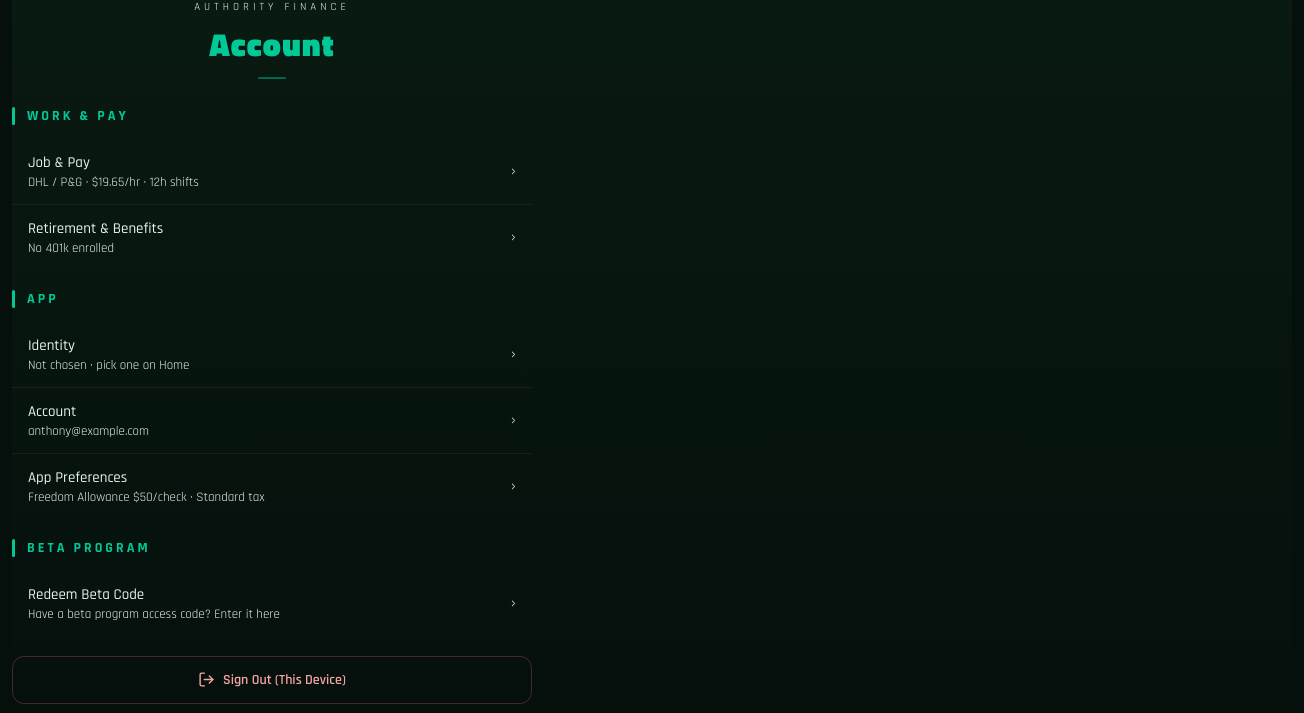
Test: ProfilePanel — Employment card (T5 DHL Team editor) is site-aware › Warehouse config shows Mon-Thu/Wed-Sat pills, not Team A/B
The width and height of the screenshot is (1304, 713).
Click the text "Job & Pay": click(59, 162) [28,153,90,172]
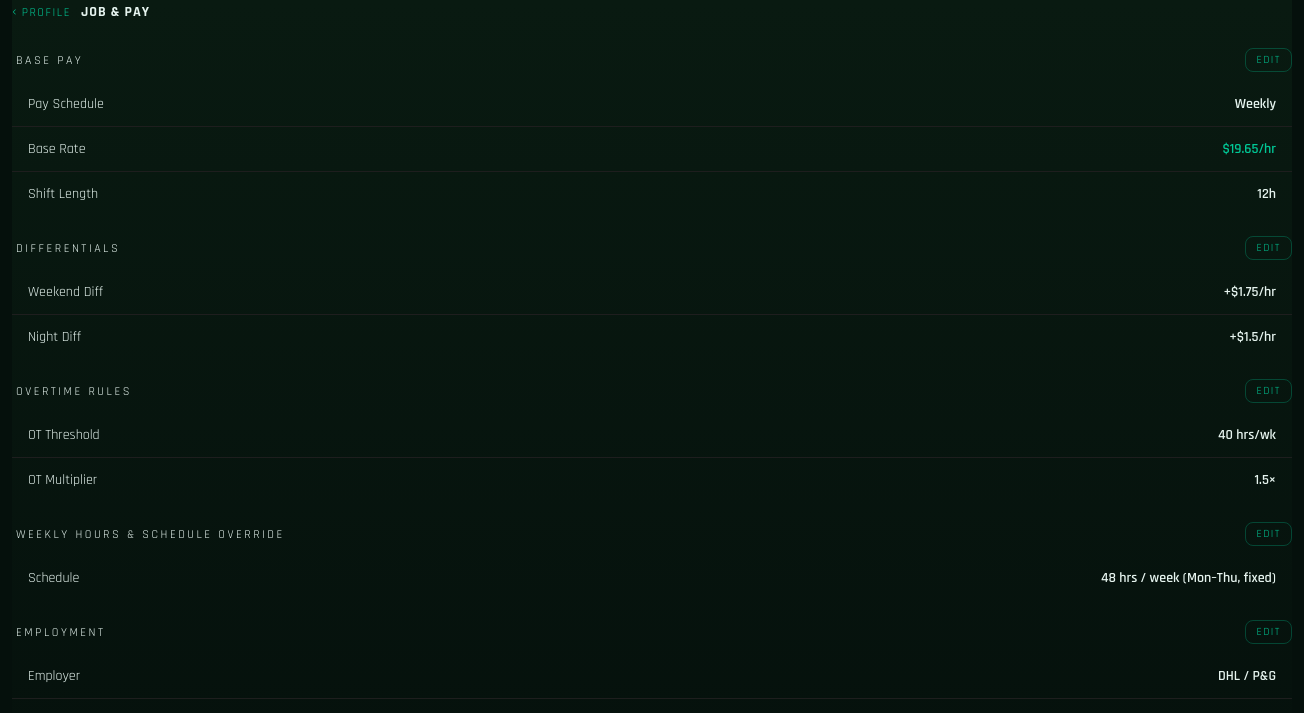
Click the button "Edit" in the row of "Employment": click(1269, 632) [1245,620,1292,644]
(page scrolled)
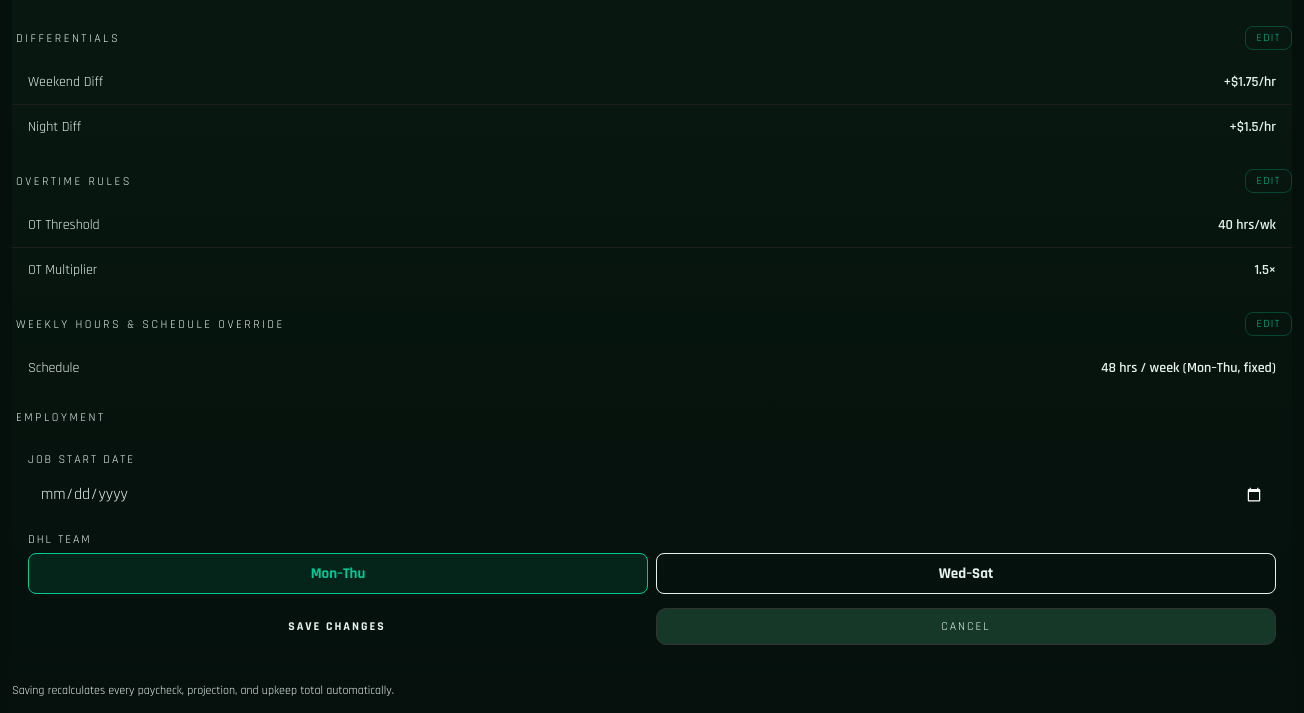
Result: the button "Mon–Thu" is shown at [28,553,648,594]
Result: the button "Wed–Sat" is shown at [656,553,1276,594]
